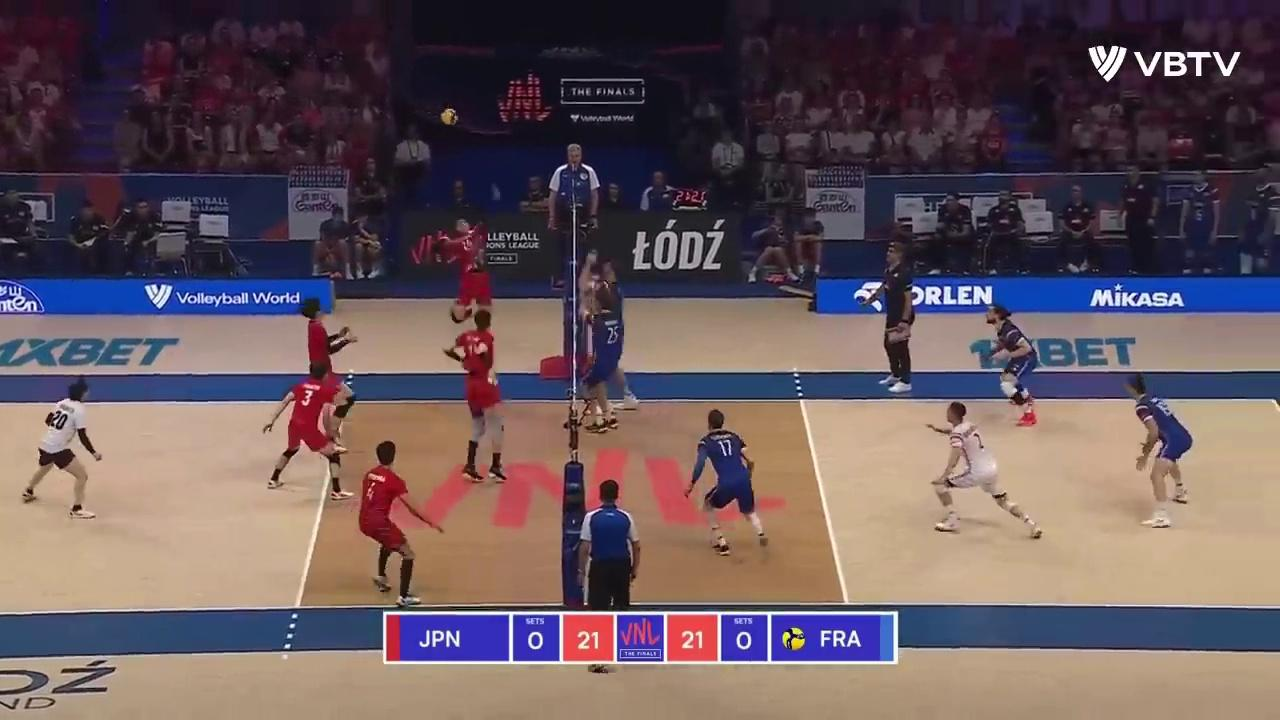ball: (441, 109, 458, 125)
